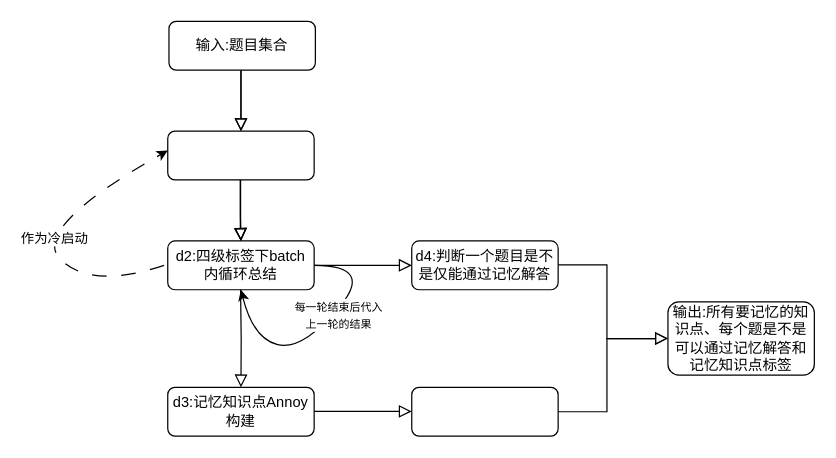
Image size: 836x458. Some labels were removed from this diagram. The shapes that lost their labels are listed below. From the top down, each one's centre as x and y in pixels, then its label:
At [240,155]: "d1:步骤级记忆知识点总结提取".
At [484,411]: "d5:后面标签的记忆点相似的映射到前面".
